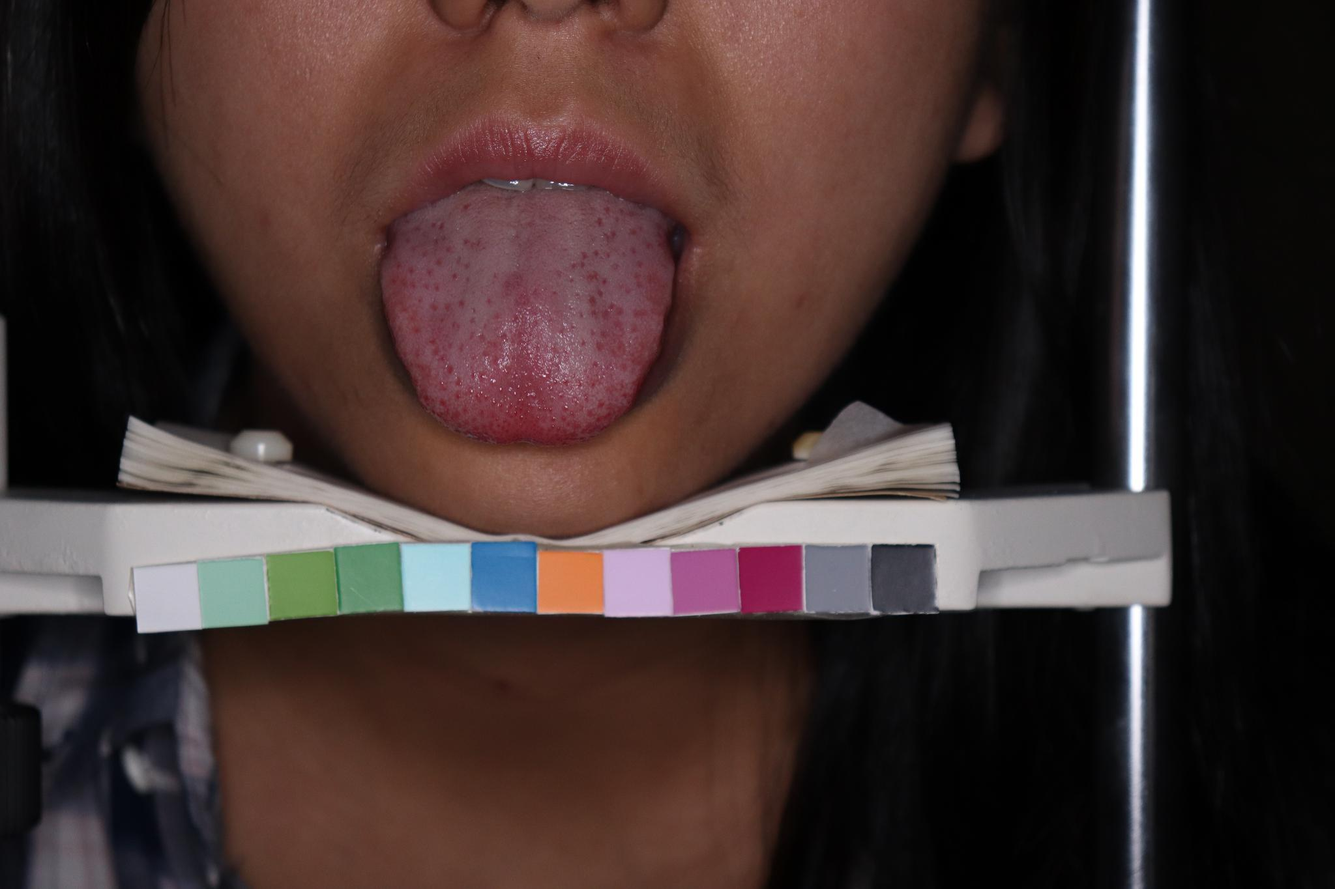baitaishe: (379, 181, 675, 445)
hongdianshe: (444, 363, 455, 375), (561, 378, 570, 387), (489, 396, 497, 406), (455, 378, 463, 387), (600, 277, 608, 285), (589, 380, 596, 388), (517, 413, 523, 421), (568, 408, 574, 416), (511, 389, 517, 396), (550, 415, 557, 421), (493, 416, 499, 423)
